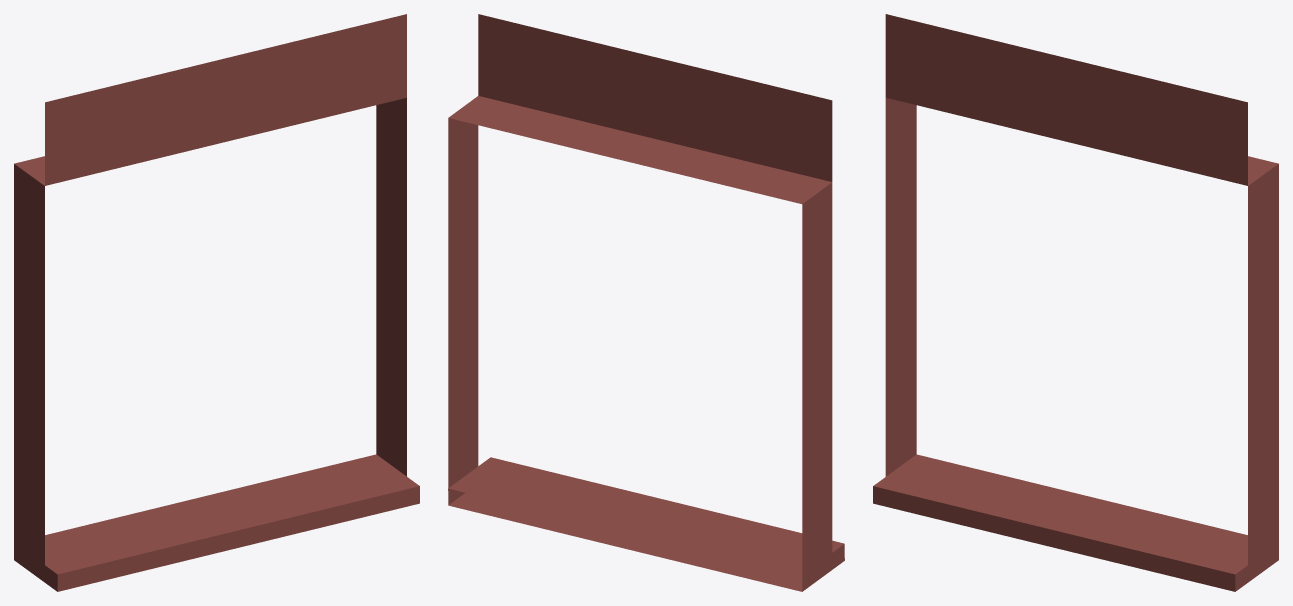
Rendered from Itr_Wall_Color_04(for_window).FBX.
3 renders of one model, left to right at view 1: azimuth 30°, elevation 25°; view 2: azimuth 150°, elevation 25°; view 3: azimuth 330°, elevation 25°, orthographic. The views are drawn at different scales.
Visible parts, largest first — view 1: Itr_Wall_Color_04(for_window); view 2: Itr_Wall_Color_04(for_window); view 3: Itr_Wall_Color_04(for_window).
Part boxes in pixels (x1,y1,x2,y2): Itr_Wall_Color_04(for_window): (14, 14, 419, 591); Itr_Wall_Color_04(for_window): (448, 14, 844, 591); Itr_Wall_Color_04(for_window): (873, 14, 1278, 591).
Bounding box in the file's own units: 65.28 × 82.71 × 13.59.
